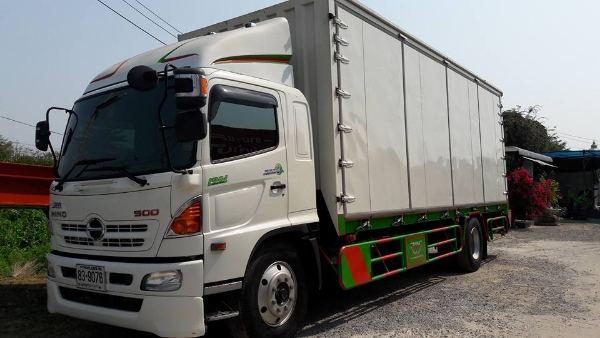truck: (50, 1, 512, 337)
